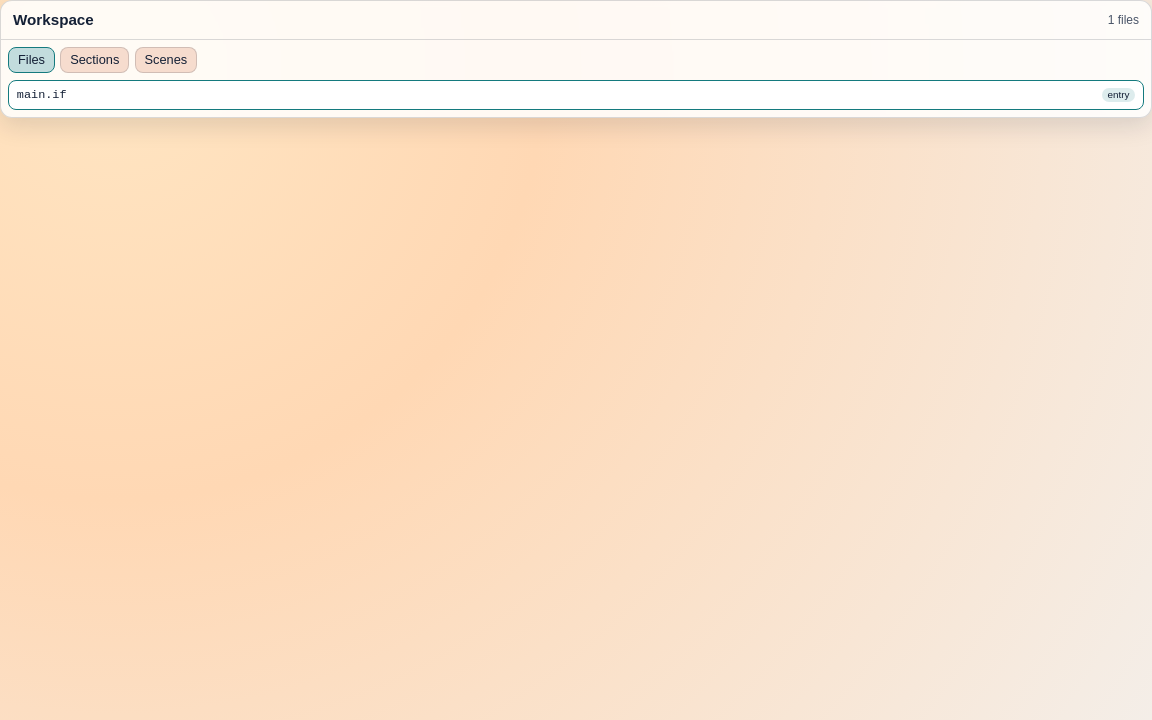
Test: Sidebar › tab switching between files, sections, scenes
Expected: the text "1 files" is shown, [1108,13,1139,27]
Click the button "Sections" at {"x": 95, "y": 60}, box [60,47,129,73]
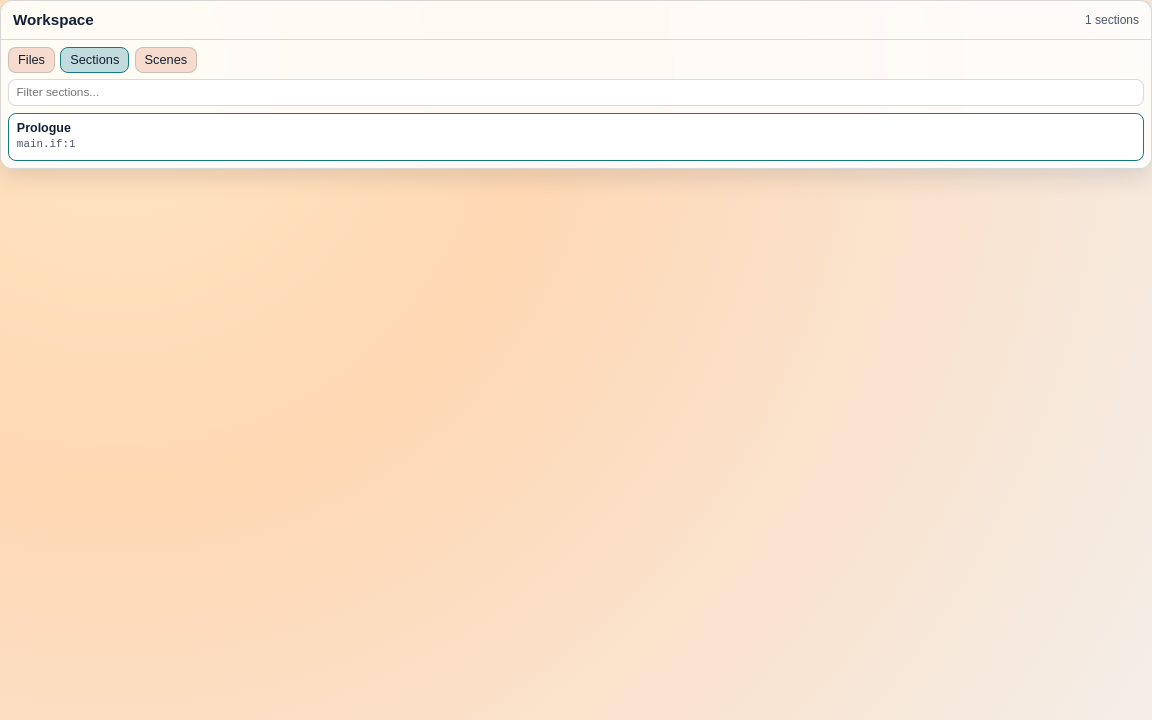
Expected: the text "1 sections" is shown, [1085,13,1139,27]
Click the button "Scenes" at {"x": 166, "y": 60}, box [135,47,197,73]
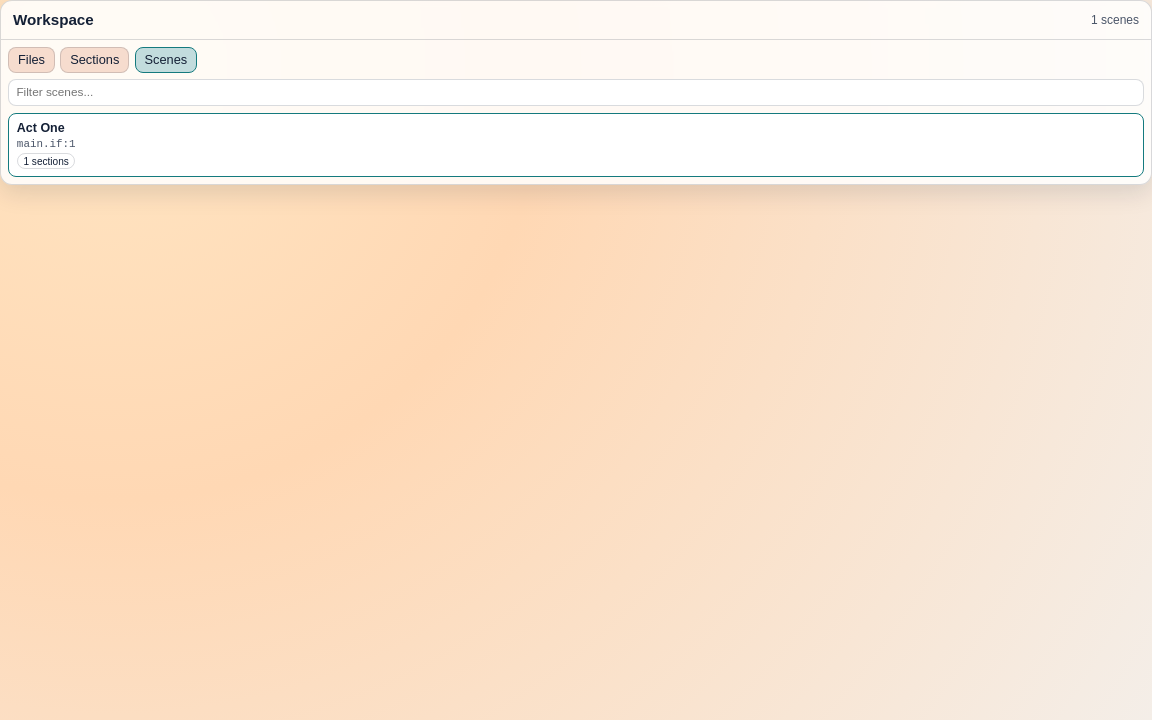
Expected: the text "1 scenes" is shown, [1091,13,1139,27]
